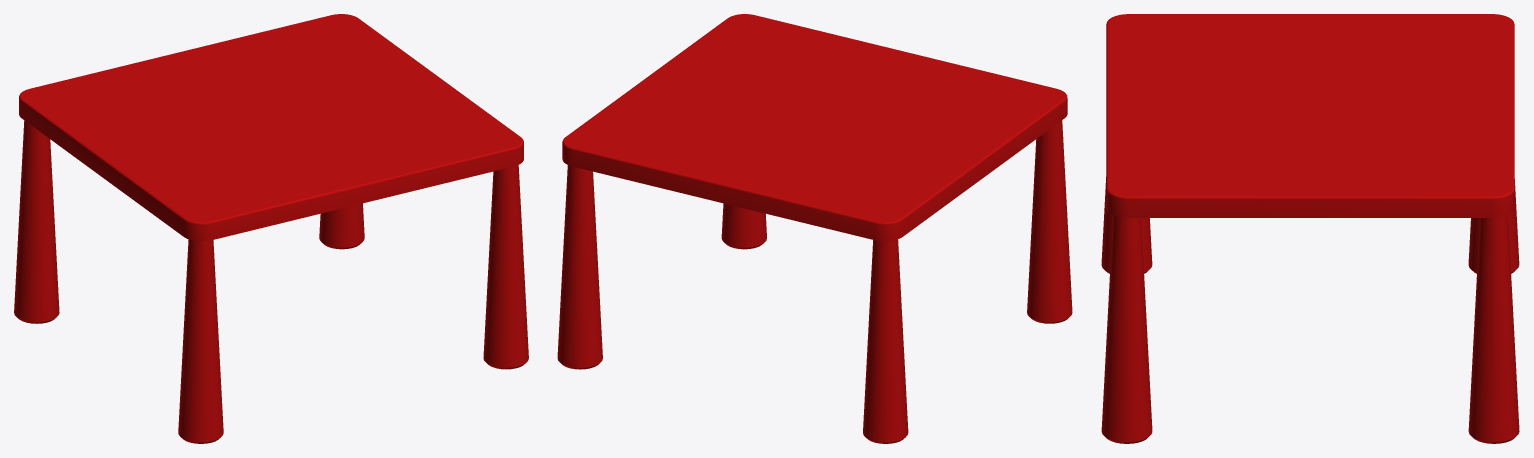
The model's file is Table.FBX.
3 views of the same model, side by side, from view 1: azimuth 30°, elevation 25°; view 2: azimuth 150°, elevation 25°; view 3: azimuth 270°, elevation 25° (orthographic). The views are drawn at different scales.
Parts seen in each view (by area): view 1: Table; view 2: Table; view 3: Table.
Boxes of the visible parts, x1,y1,x2,y2 form: Table: [14, 14, 528, 443]; Table: [557, 14, 1072, 443]; Table: [1101, 14, 1519, 443].
Size of the model in its own units: 84.01 by 51.19 by 78.91.
